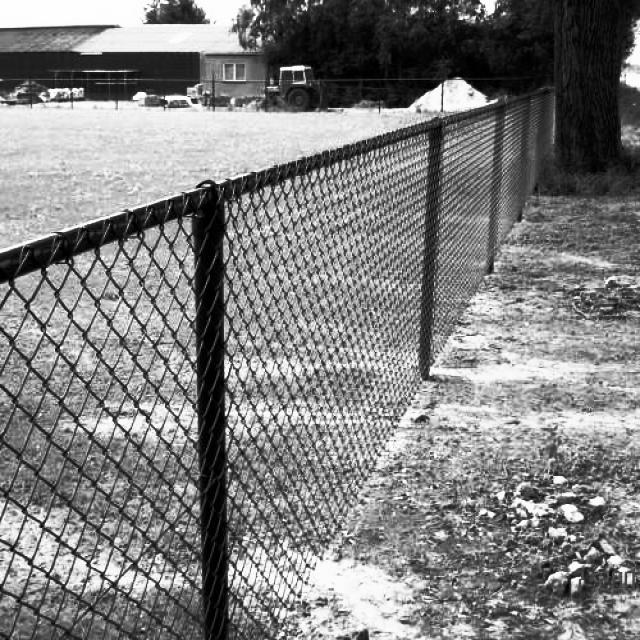fences: (247, 112, 496, 626), (0, 200, 223, 640), (496, 91, 555, 239)
